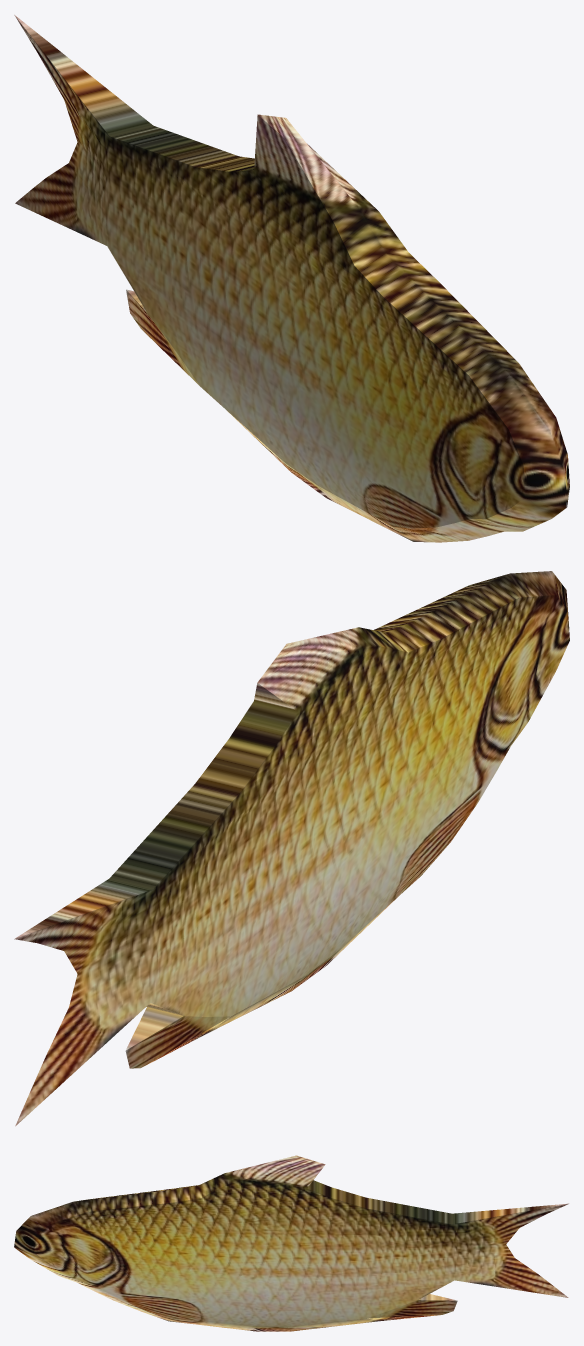
Rendered from rybka.fbx.
3 renders of one model, top to bottom at view 1: azimuth 30°, elevation 25°; view 2: azimuth 150°, elevation 25°; view 3: azimuth 270°, elevation 25°, orthographic. The views are drawn at different scales.
Visible parts, largest first — view 1: pPlane1; view 2: pPlane1; view 3: pPlane1.
Boxes of the visible parts, box(x1,y1,x2,y2) form: pPlane1: box(14, 14, 569, 542); pPlane1: box(14, 571, 569, 1126); pPlane1: box(14, 1155, 568, 1331).
Size of the model in its own units: 0.1834 by 1.08 by 3.1.
Materials: 1 (1 with a texture image).
